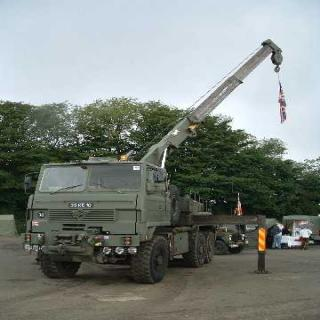Towing_truck: (20, 37, 287, 285)
